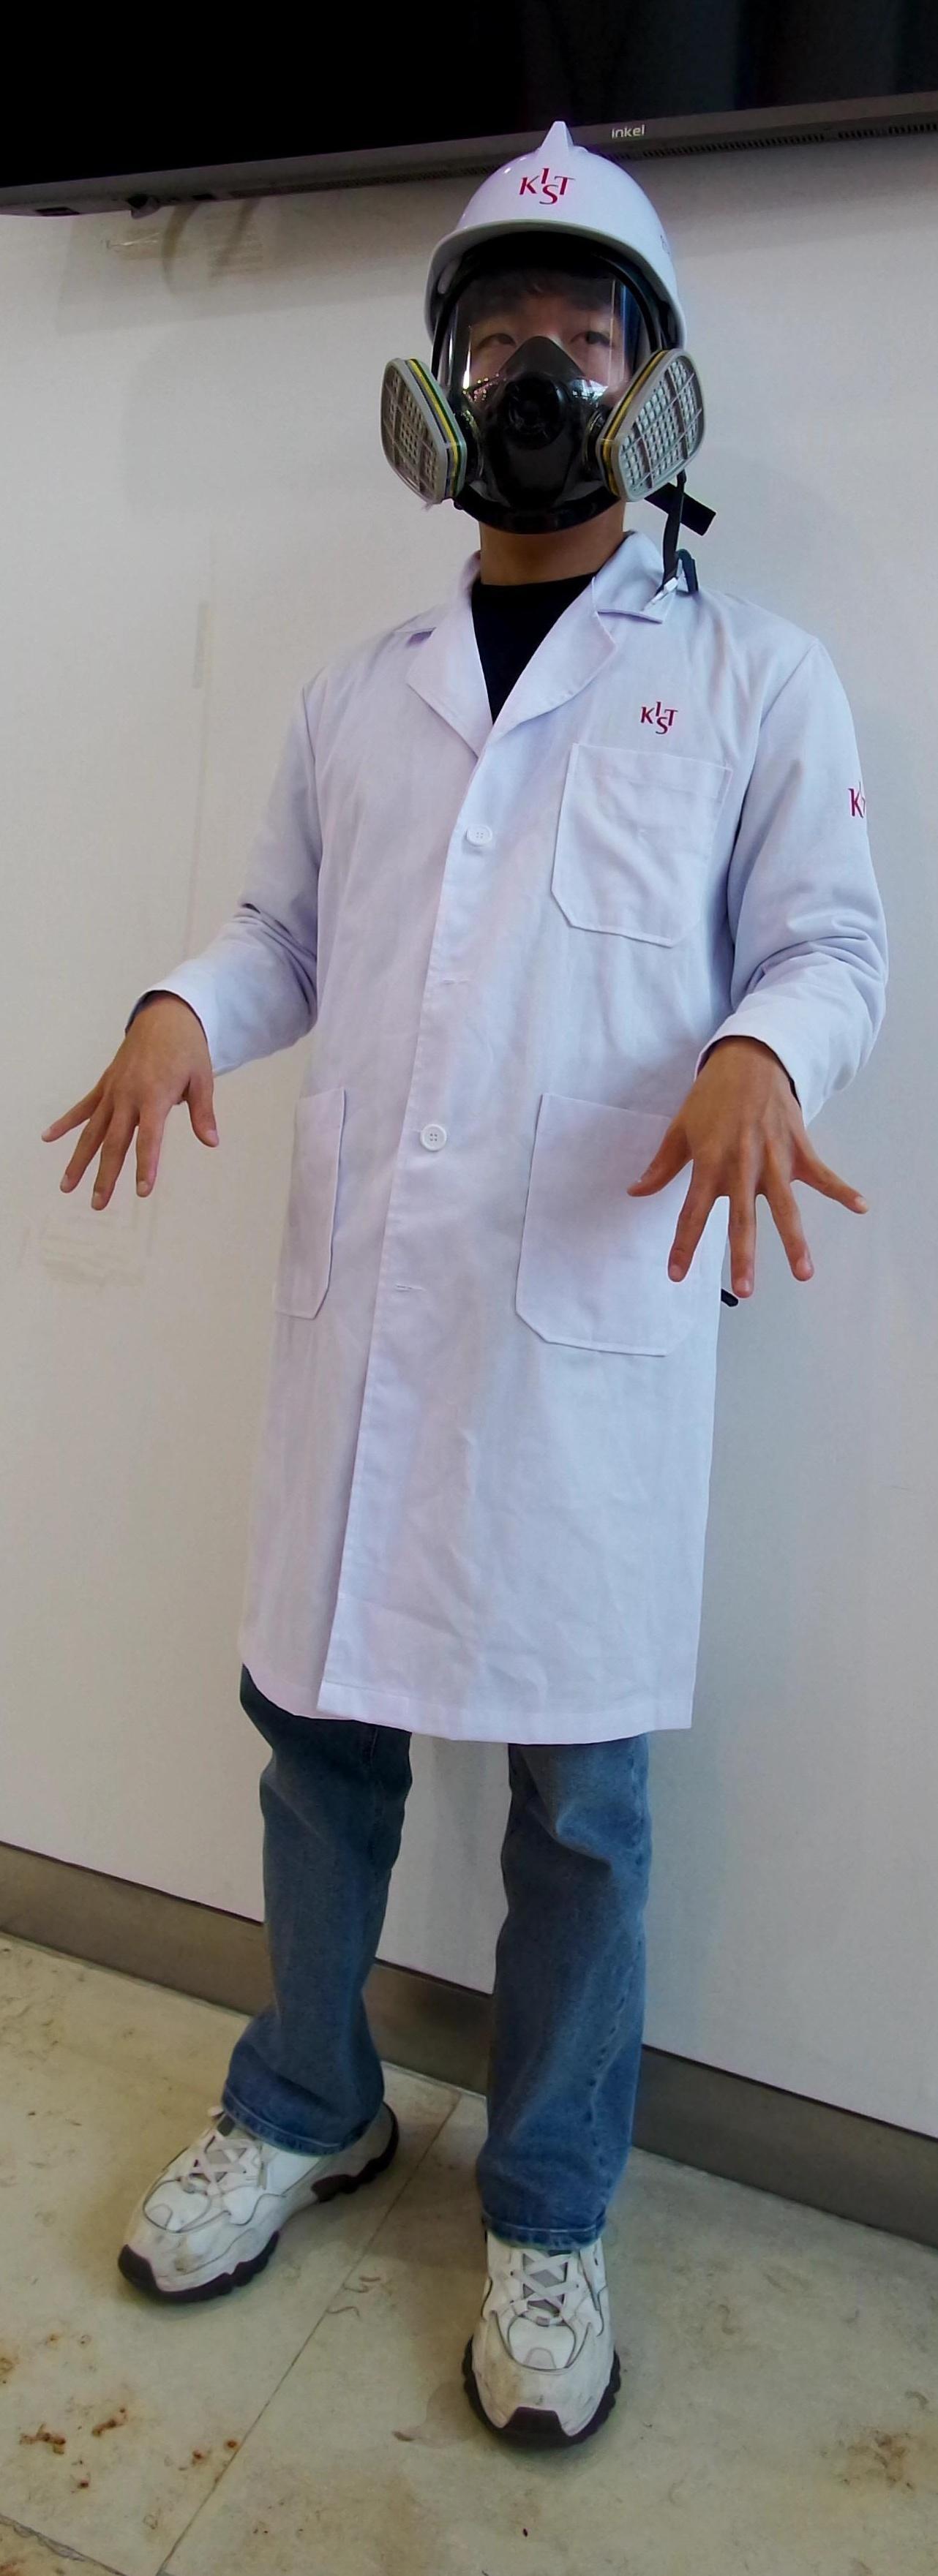lab_coat: (273, 652, 705, 1735)
